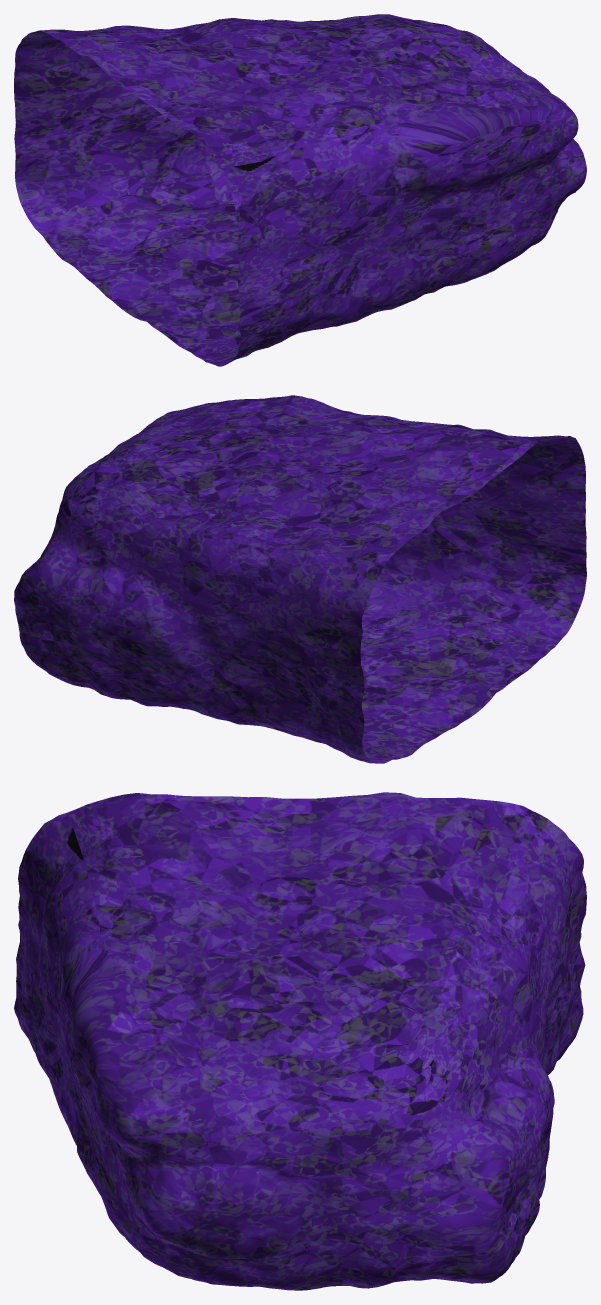
File: sceneFinal.glb
3 renders of one model, top to bottom at view 1: azimuth 30°, elevation 25°; view 2: azimuth 150°, elevation 25°; view 3: azimuth 270°, elevation 25°, orthographic. The views are drawn at different scales.
Visible parts, largest first — view 1: Grotte4; view 2: Grotte4; view 3: Grotte4.
Part boxes in pixels (box(x1,y1,x2,y2)): Grotte4: box(14, 14, 586, 366); Grotte4: box(14, 395, 586, 763); Grotte4: box(14, 792, 586, 1290).
Bounding box in the file's own units: 69.87 × 36.94 × 66.93.
Materials: 10 (7 with a texture image).
